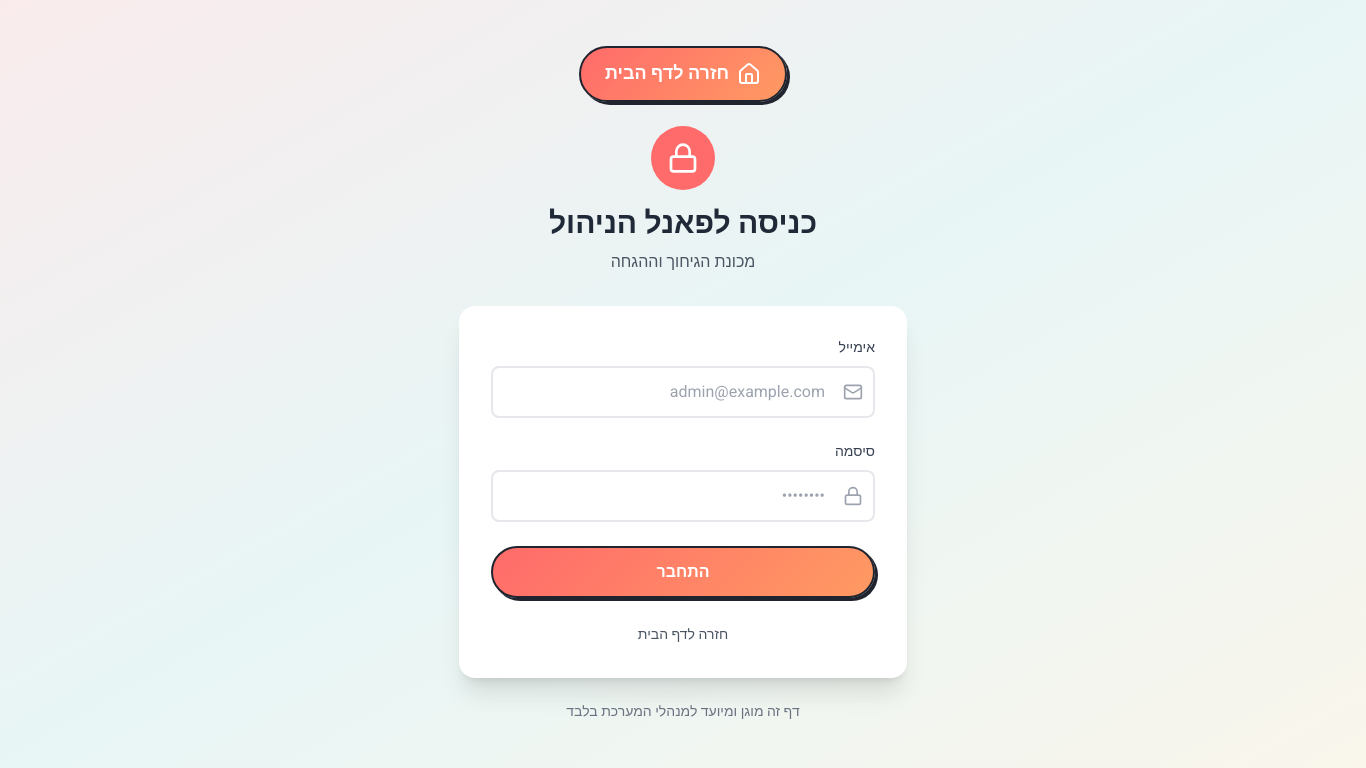
Test case: Admin Authentication Flow › displays error message on failed login
Fill in the form with wrong credentials
In the field labelled "אימייל": [683, 392] box x1=491 y1=366 x2=875 y2=418, type "wrong@test.com"
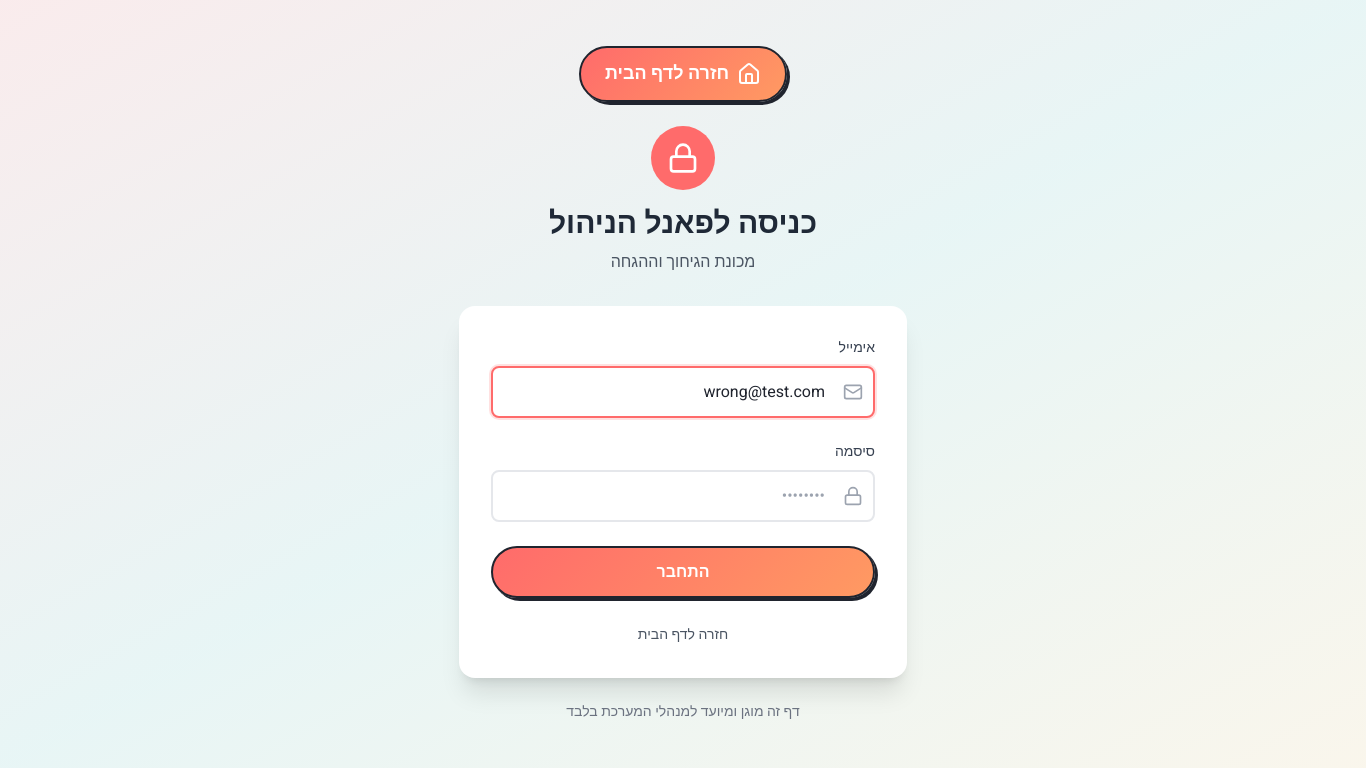
In the password field labelled "סיסמה": [683, 496] box x1=491 y1=470 x2=875 y2=522, type "wrongpassword"
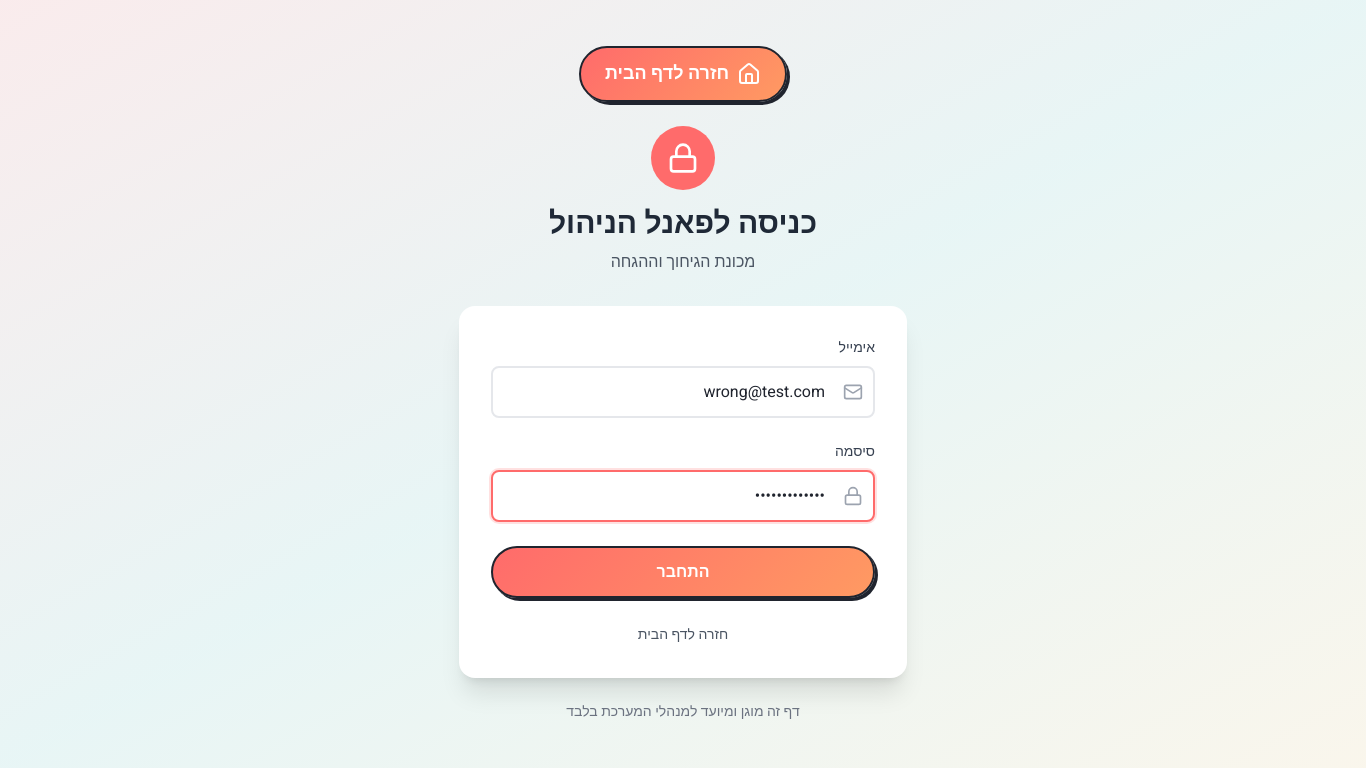
Click the button "התחבר": [683, 572] box x1=491 y1=546 x2=875 y2=598
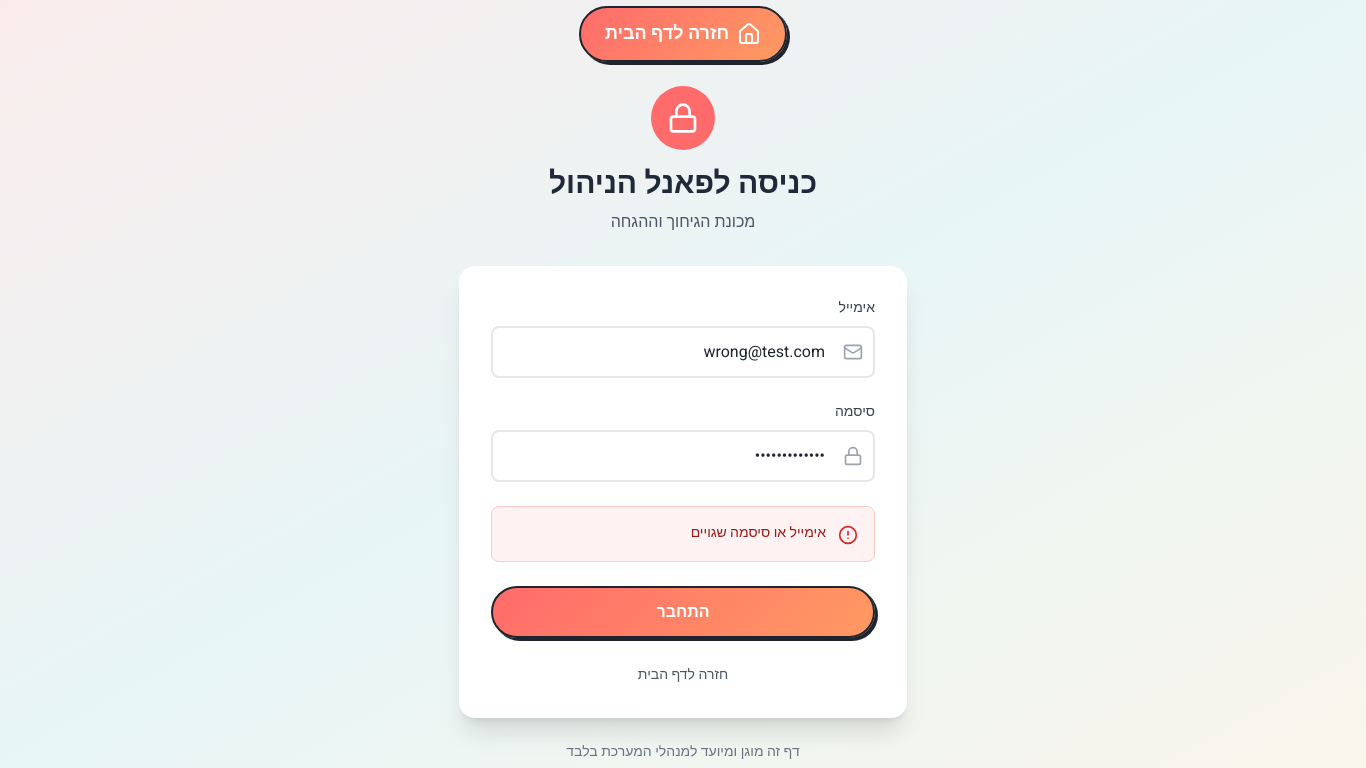
Now the text "אימייל או סיסמה שגויים" is shown, box x1=691 y1=523 x2=826 y2=543
